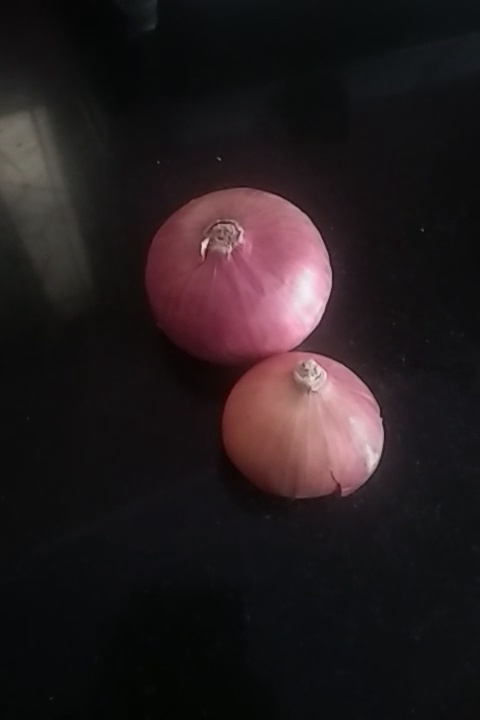onion: (144, 185, 330, 368), (215, 351, 383, 503)
